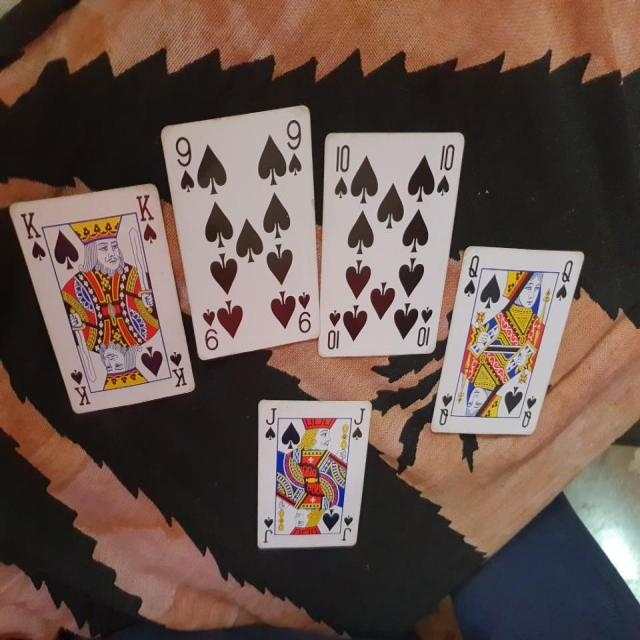10 Spades: (314, 119, 467, 368)
9 Spades: (150, 92, 323, 362)
J Spades: (249, 394, 376, 554)
K Spades: (9, 188, 199, 428)
Q Spades: (431, 250, 586, 444)
